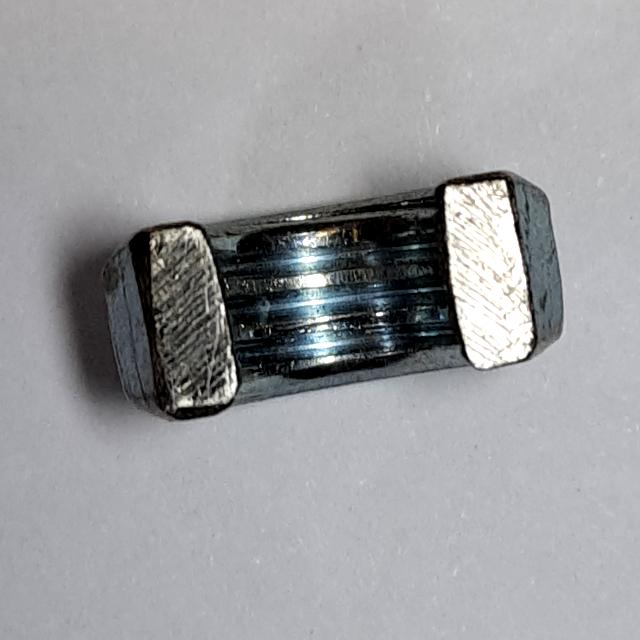Side-Fracture: (89, 154, 580, 443)
